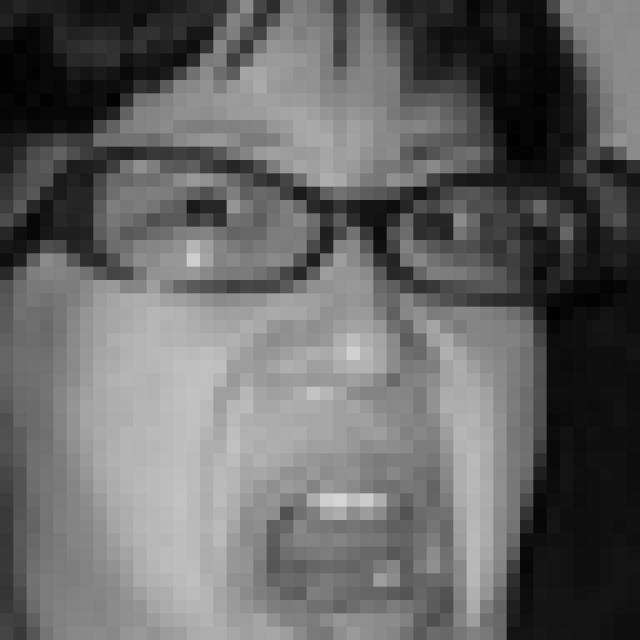disgust: (89, 122, 518, 640)
